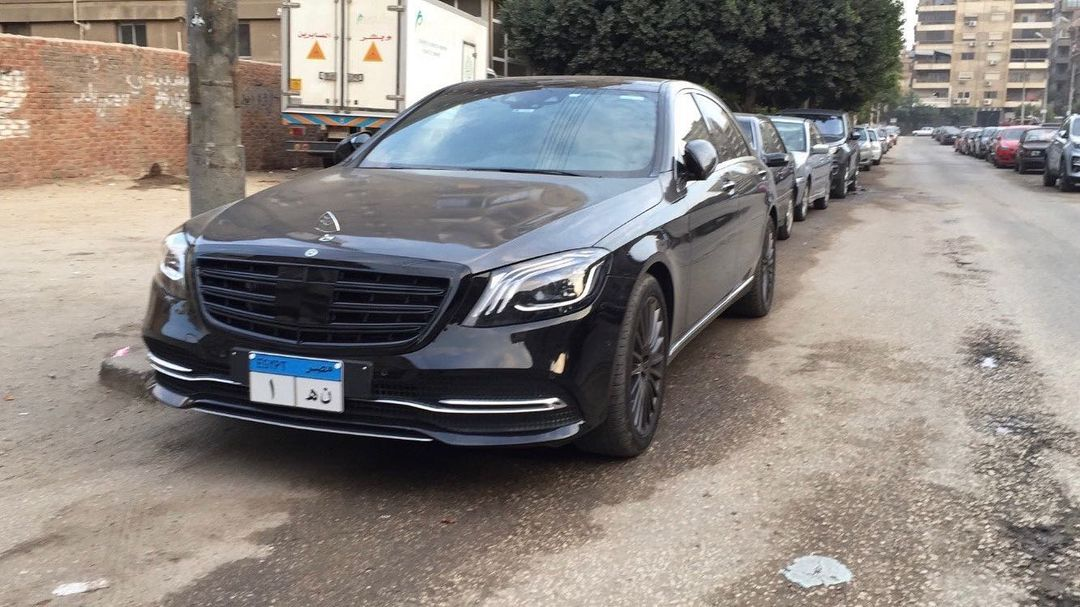carpl: (240, 341, 350, 420)
